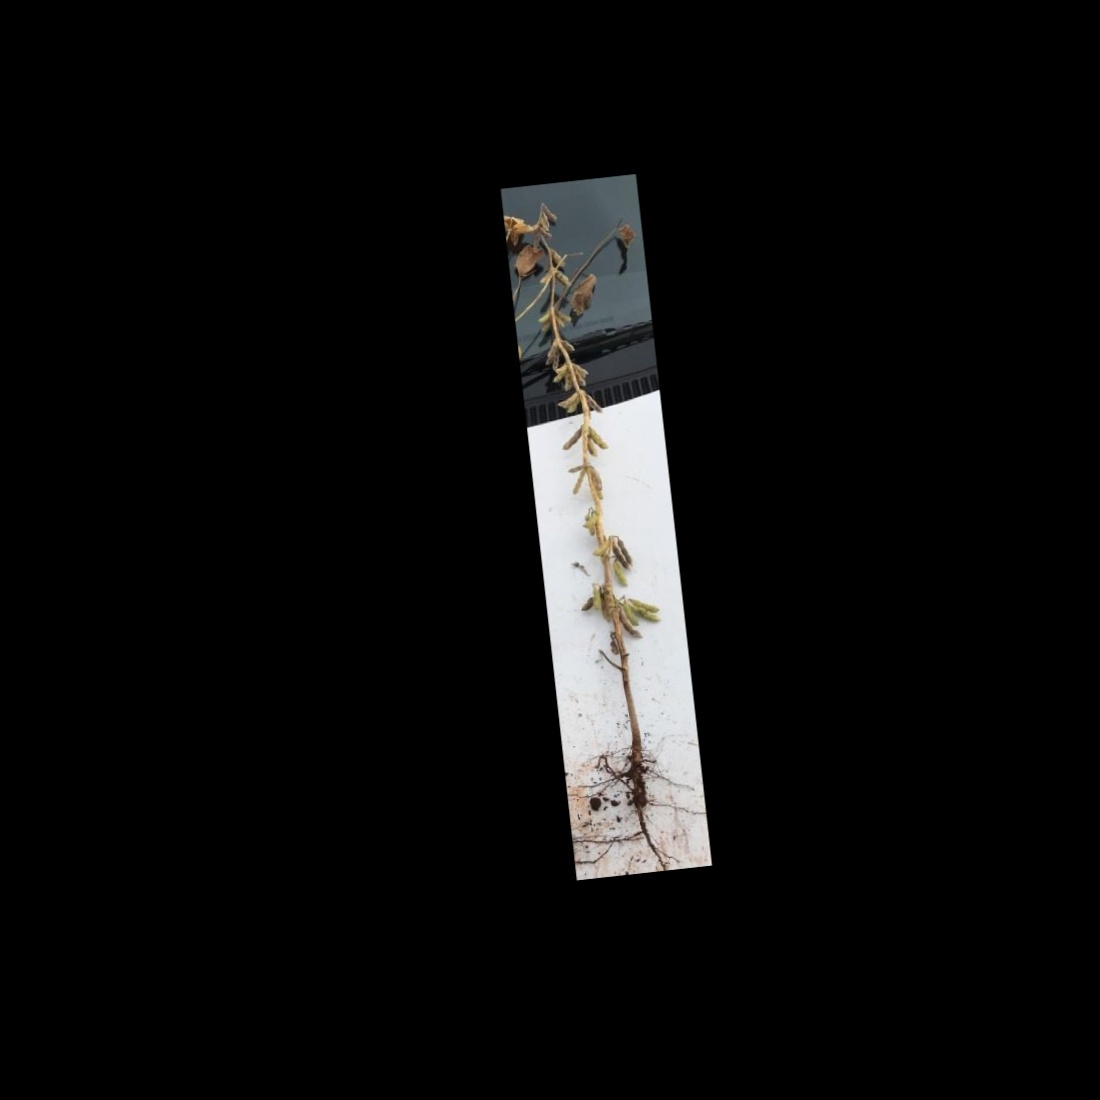pod: (558, 424, 584, 452), (568, 469, 587, 497), (621, 600, 639, 628), (613, 558, 628, 592), (588, 539, 612, 558), (575, 595, 595, 614), (590, 584, 601, 612)
soy: (506, 195, 699, 856)
